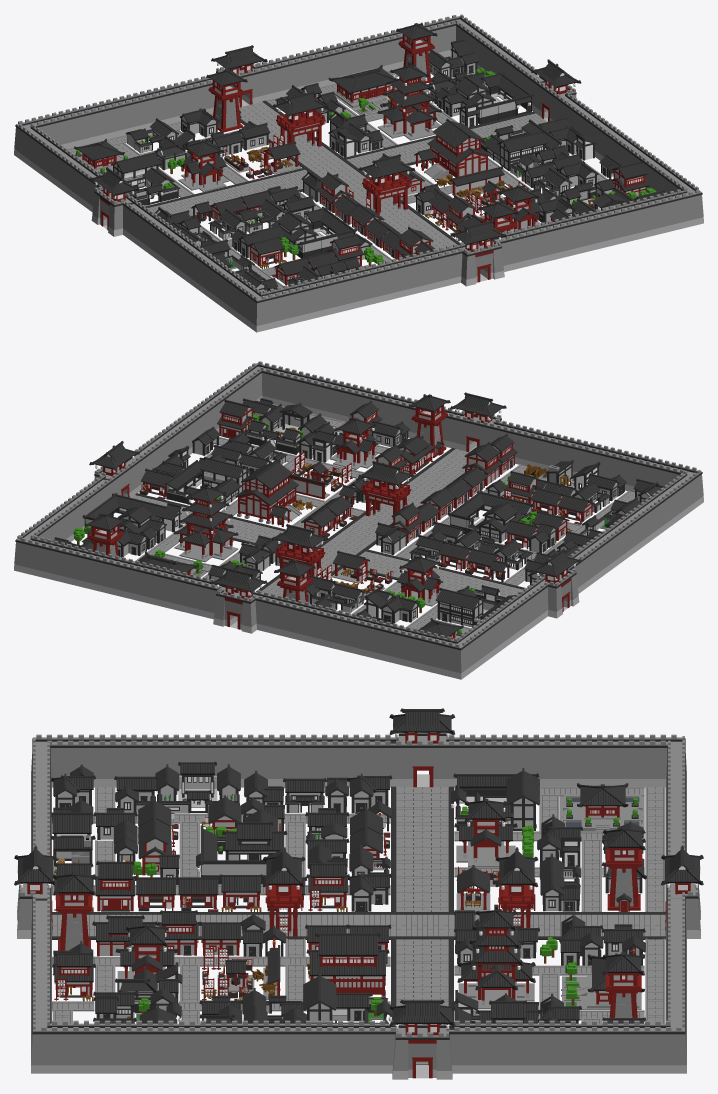
Rendered from low_poly_chinese_city.glb.
3 views of the same model, one above another, from view 1: azimuth 30°, elevation 25°; view 2: azimuth 150°, elevation 25°; view 3: azimuth 270°, elevation 25° (orthographic). The views are drawn at different scales.
Visible parts, largest first — view 1: Object_108, Object_81, Object_6, Object_4, Object_54, Object_1107, Object_34, Object_1108; view 2: Object_108, Object_81, Object_6, Object_4, Object_54, Object_34, Object_1107, Object_1108; view 3: Object_81, Object_108, Object_6, Object_4, Object_54, Object_1107, Object_1108, Object_34.
Part boxes in pixels (x1,y1,x2,y2): Object_108: (15,17,702,303); Object_81: (14,14,703,325); Object_6: (14,36,703,332); Object_4: (82,34,647,285); Object_54: (84,62,641,282); Object_1107: (76,68,656,265); Object_34: (105,47,592,248); Object_1108: (78,107,596,269); Object_108: (15,365,702,650); Object_81: (14,361,703,673); Object_6: (14,395,703,679); Object_4: (87,405,592,639); Object_54: (95,409,615,637); Object_34: (105,402,597,618); Object_1107: (73,412,609,633); Object_1108: (77,427,571,634); Object_81: (17,732,700,1070); Object_108: (14,708,703,1064); Object_6: (17,771,700,1079); Object_4: (21,732,696,1078); Object_54: (20,733,697,1028); Object_1107: (132,796,637,1022); Object_1108: (56,804,635,1018); Object_34: (30,732,687,1032).
Bounding box in the file's own units: 34.6 × 4.87 × 32.6.
